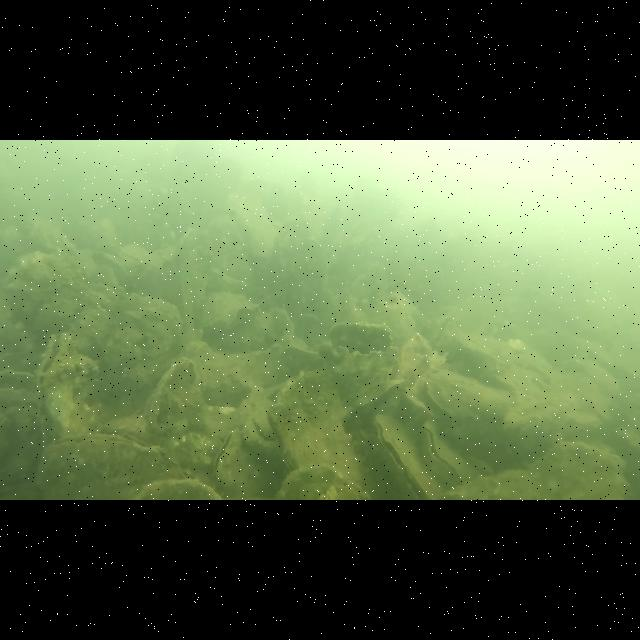Oyster-Closed: (268, 370, 366, 500), (34, 434, 195, 500), (453, 442, 629, 501), (5, 252, 104, 352), (102, 294, 180, 404), (0, 403, 50, 500), (140, 358, 198, 436), (170, 228, 217, 324), (120, 242, 164, 284)
Oyster-Open: (405, 371, 507, 439), (34, 330, 98, 438), (372, 414, 438, 500), (321, 320, 399, 390), (417, 417, 479, 489), (213, 426, 265, 499), (197, 290, 257, 336), (90, 248, 132, 296), (243, 402, 281, 454), (431, 316, 462, 364), (0, 368, 38, 405)
